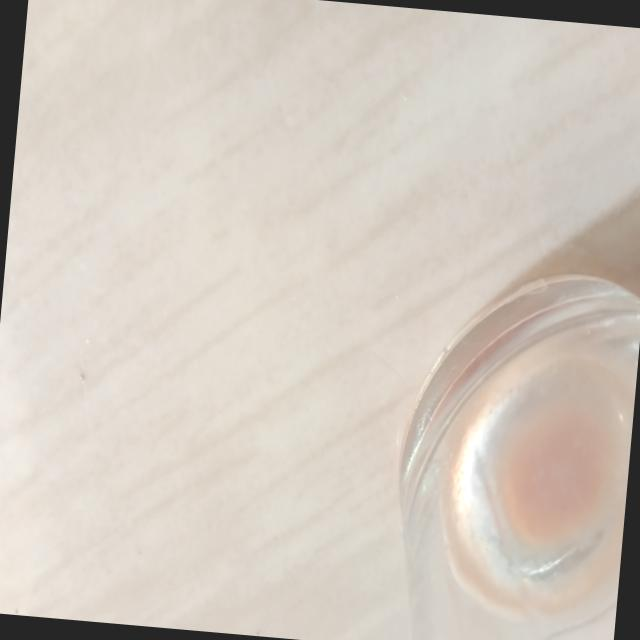glass-VX4N: (381, 258, 640, 640)
